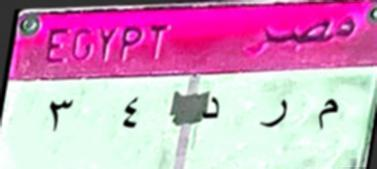3: (47, 96, 76, 136)
4: (118, 94, 142, 134)
daal: (198, 90, 224, 128)
meem: (310, 93, 346, 136)
raa: (255, 90, 292, 132)
